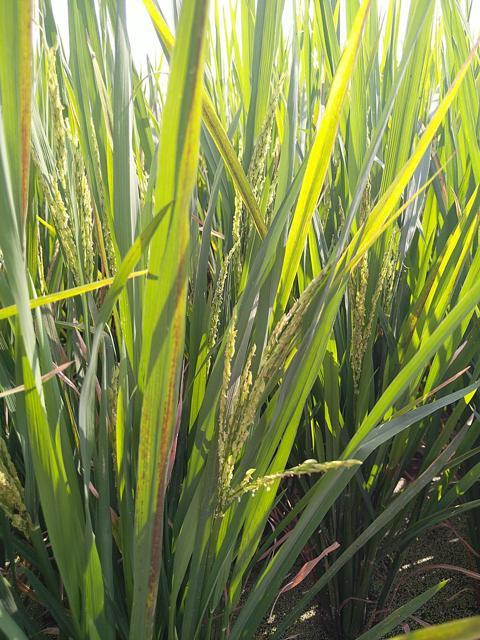Leaf Streak: (146, 0, 206, 622), (203, 106, 268, 240), (20, 0, 32, 225), (408, 263, 438, 335), (133, 403, 149, 521)
